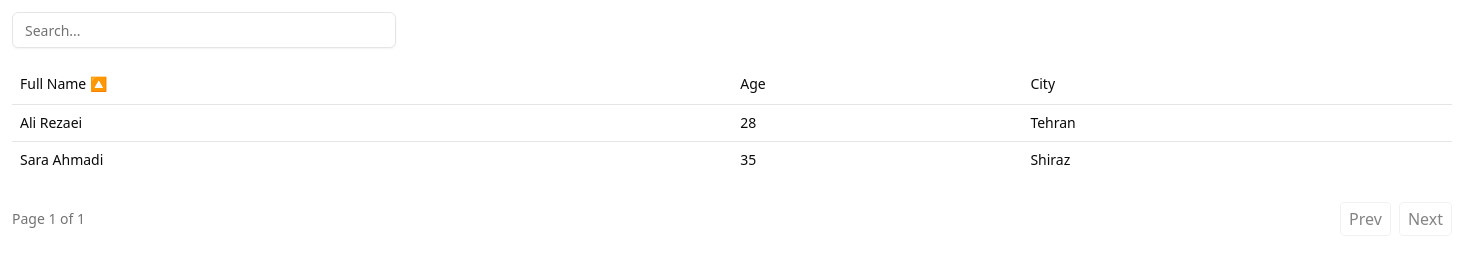
Test case: PrimaryTable › filters data based on search
The image size is (1464, 253).
Type "Sara" into the field with placeholder "Search..." at (204, 30), box [12,12,396,48]
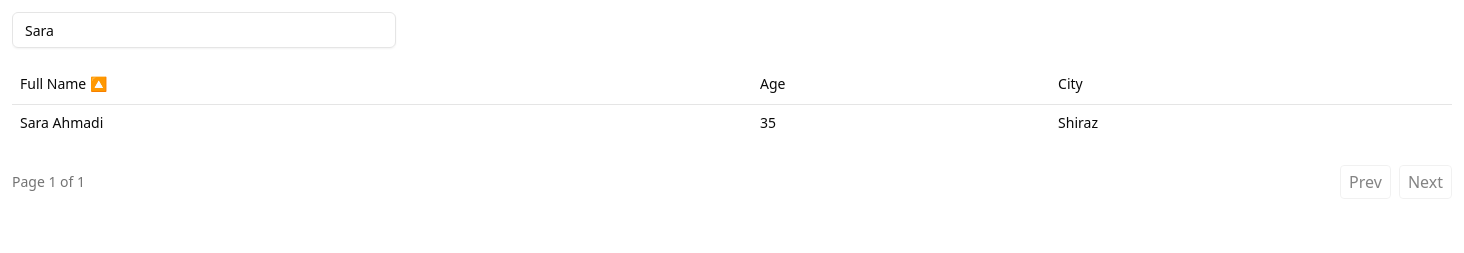
Expected: the text "Sara Ahmadi" is shown, [12,104,752,140]
Expected: the text "Ali Rezaei" is gone
